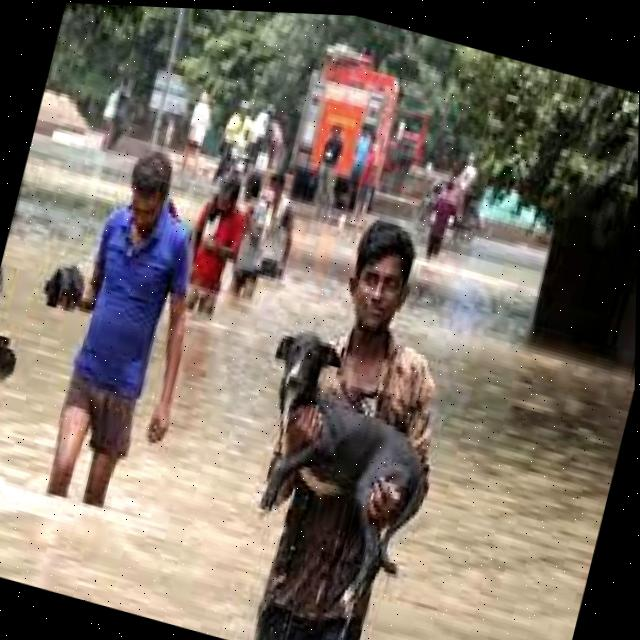civilian: (221, 188, 525, 640), (0, 122, 238, 551), (161, 149, 261, 336), (236, 155, 318, 303), (213, 161, 290, 305), (418, 171, 474, 263)
dog: (206, 302, 489, 634)
